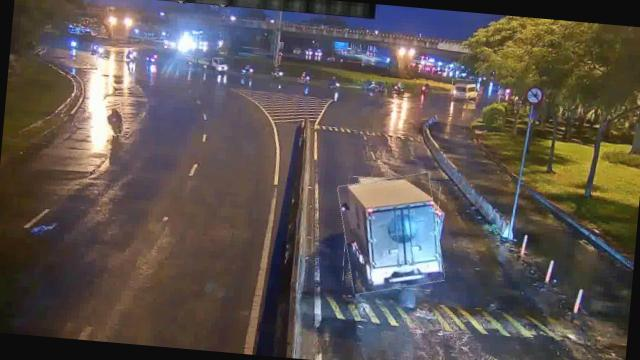Bike: (104, 102, 125, 136)
Bus: (340, 175, 443, 292), (451, 78, 478, 102)
Truck: (334, 170, 448, 297)
